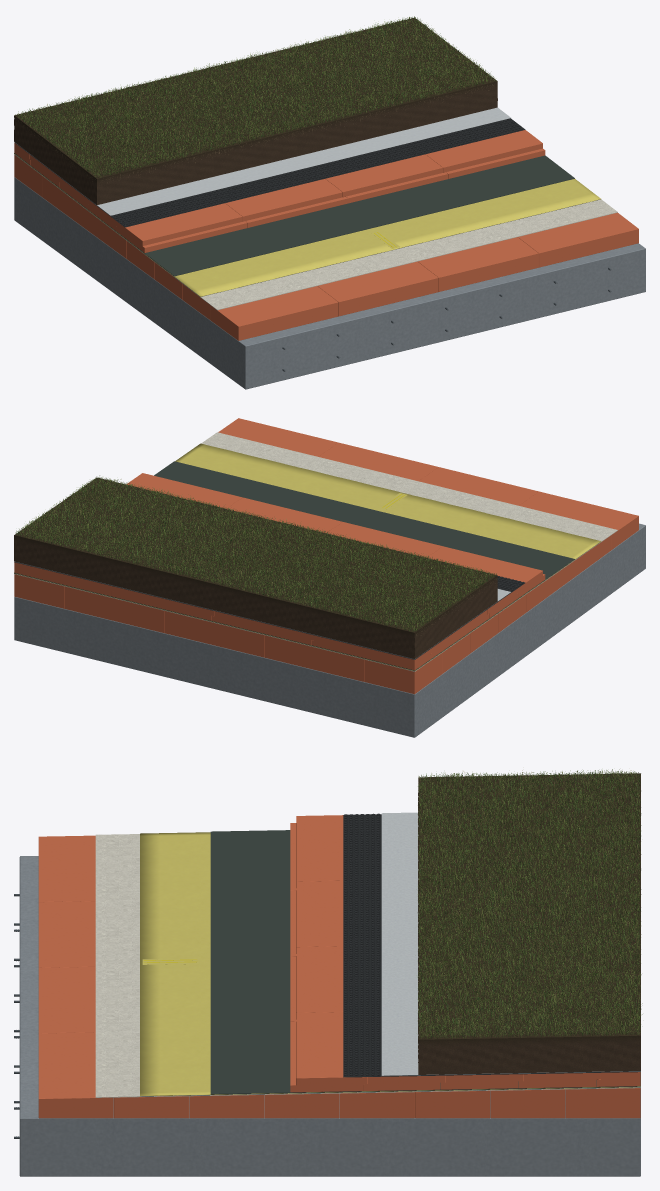
File: invers-green-optimized.glb
3 views of the same model, one above another, from view 1: azimuth 30°, elevation 25°; view 2: azimuth 150°, elevation 25°; view 3: azimuth 270°, elevation 25° (orthographic). The views are drawn at different scales.
Parts seen in each view (by area): view 1: Субстрат · непрерывный органическ, Газон · послойный срез, 12_Железобетонная плита, Противокорневая плёнка, 07_Сигнальная жёлтая поверхность GEO, PLASTFOIL CANVAS, TERRAISOL · фильтр, Открытые дренажно-накопительные я, Основа дренажно-накопительного сл, ПЕНОПЛЭКС УКЛОН · плита 1.1, ПЕНОПЛЭКС УКЛОН · плита 1.2, ПЕНОПЛЭКС УКЛОН · плита 1.3 (+10 smaller); view 2: Субстрат · непрерывный органическ, Газон · послойный срез, 12_Железобетонная плита, 07_Сигнальная жёлтая поверхность GEO, Противокорневая плёнка, PLASTFOIL CANVAS, ПЕНОПЛЭКС УКЛОН · плита 1.1, ПЕНОПЛЭКС УКЛОН · плита 8.3, ПЕНОПЛЭКС УКЛОН · плита 8.2, ПЕНОПЛЭКС УКЛОН · плита 8.4, ПЕНОПЛЭКС УКЛОН · плита 1.3, ПЕНОПЛЭКС УКЛОН · плита 1.4 (+18 smaller); view 3: Субстрат · непрерывный органическ, Газон · послойный срез, 12_Железобетонная плита, Противокорневая плёнка, 07_Сигнальная жёлтая поверхность GEO, PLASTFOIL CANVAS, TERRAISOL · фильтр, Открытые дренажно-накопительные я, Основа дренажно-накопительного сл, ПЕНОПЛЭКС УКЛОН · плита 1.4, 03_XPS_00_03 | цельная L-кромка, ПЕНОПЛЭКС УКЛОН · плита 1.1 (+16 smaller).
Part boxes in pixels (box(x1,y1,x2,y2)): Субстрат · непрерывный органическ: box(14, 18, 497, 204); Газон · послойный срез: box(15, 16, 496, 177); 12_Железобетонная плита: box(14, 177, 645, 389); Противокорневая плёнка: box(14, 153, 574, 276); 07_Сигнальная жёлтая поверхность GEO: box(14, 153, 600, 296); PLASTFOIL CANVAS: box(14, 154, 617, 310); TERRAISOL · фильтр: box(16, 107, 510, 215); Открытые дренажно-накопительные я: box(111, 118, 523, 226); Основа дренажно-накопительного сл: box(14, 118, 525, 227); ПЕНОПЛЭКС УКЛОН · плита 1.1: box(210, 286, 338, 340); ПЕНОПЛЭКС УКЛОН · плита 1.2: box(318, 261, 438, 316); ПЕНОПЛЭКС УКЛОН · плита 1.3: box(418, 237, 538, 291); Субстрат · непрерывный органическ: box(14, 477, 497, 658); Газон · послойный срез: box(15, 475, 496, 631); 12_Железобетонная плита: box(14, 523, 645, 737); 07_Сигнальная жёлтая поверхность GEO: box(14, 443, 600, 670); Противокорневая плёнка: box(14, 461, 574, 670); PLASTFOIL CANVAS: box(14, 432, 617, 671); ПЕНОПЛЭКС УКЛОН · плита 1.1: box(519, 491, 638, 550); ПЕНОПЛЭКС УКЛОН · плита 8.3: box(164, 611, 264, 657); ПЕНОПЛЭКС УКЛОН · плита 8.2: box(264, 635, 364, 681); ПЕНОПЛЭКС УКЛОН · плита 8.4: box(64, 586, 164, 632); ПЕНОПЛЭКС УКЛОН · плита 1.3: box(318, 442, 438, 481); ПЕНОПЛЭКС УКЛОН · плита 1.4: box(218, 418, 338, 456); Субстрат · непрерывный органическ: box(418, 773, 640, 1074); Газон · послойный срез: box(417, 769, 642, 1038); 12_Железобетонная плита: box(19, 856, 640, 1176); Противокорневая плёнка: box(210, 830, 640, 1094); 07_Сигнальная жёлтая поверхность GEO: box(140, 832, 640, 1096); PLASTFOIL CANVAS: box(95, 834, 640, 1097); TERRAISOL · фильтр: box(381, 812, 640, 1075); Открытые дренажно-накопительные я: box(344, 813, 380, 1075); Основа дренажно-накопительного сл: box(343, 814, 640, 1077); ПЕНОПЛЭКС УКЛОН · плита 1.4: box(38, 1032, 113, 1118); 03_XPS_00_03 | цельная L-кромка: box(290, 1012, 367, 1092); ПЕНОПЛЭКС УКЛОН · плита 1.1: box(38, 835, 95, 902).
Size of the model in its own units: 4.84 by 1.28 by 4.88.
21 materials, 7 textured.
